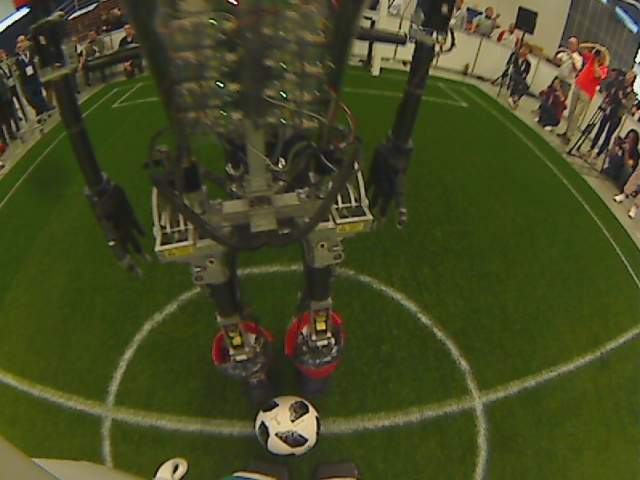ball: (250, 394, 324, 463)
